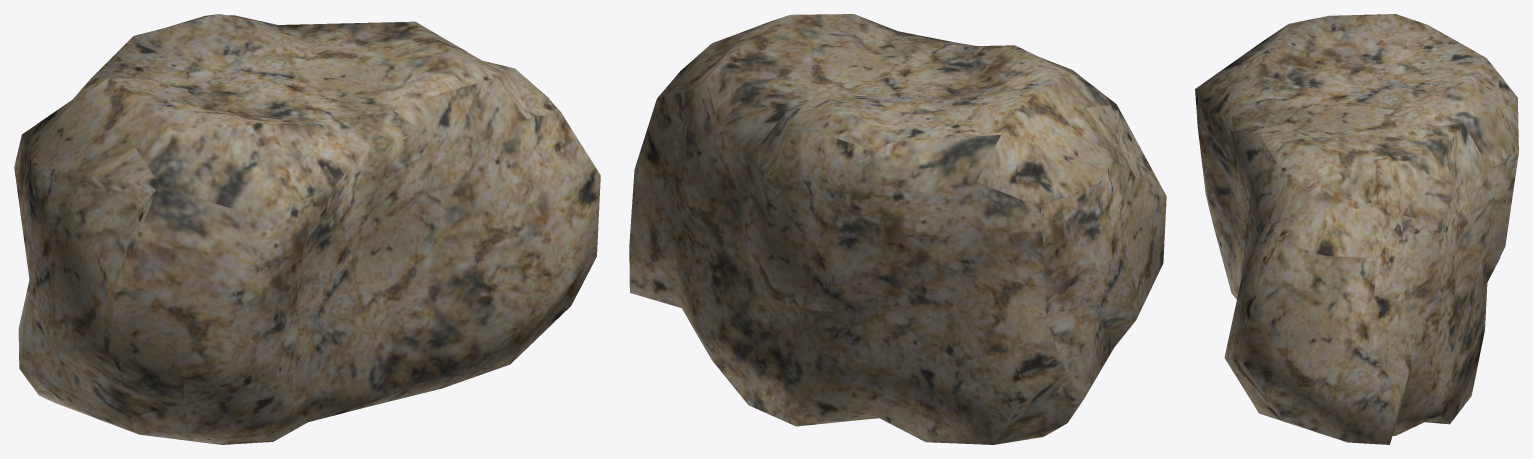
File: roca_3.glb
3 renders of one model, left to right at view 1: azimuth 30°, elevation 25°; view 2: azimuth 150°, elevation 25°; view 3: azimuth 270°, elevation 25°, orthographic. The views are drawn at different scales.
Parts seen in each view (by area): view 1: roca_3; view 2: roca_3; view 3: roca_3.
Boxes of the visible parts, bbox=[...] form: roca_3: bbox=[14, 14, 600, 444]; roca_3: bbox=[629, 14, 1166, 444]; roca_3: bbox=[1195, 14, 1518, 444].
Size of the model in its own units: 68.5 by 43.8 by 42.3.
Materials: 1 (1 with a texture image).
